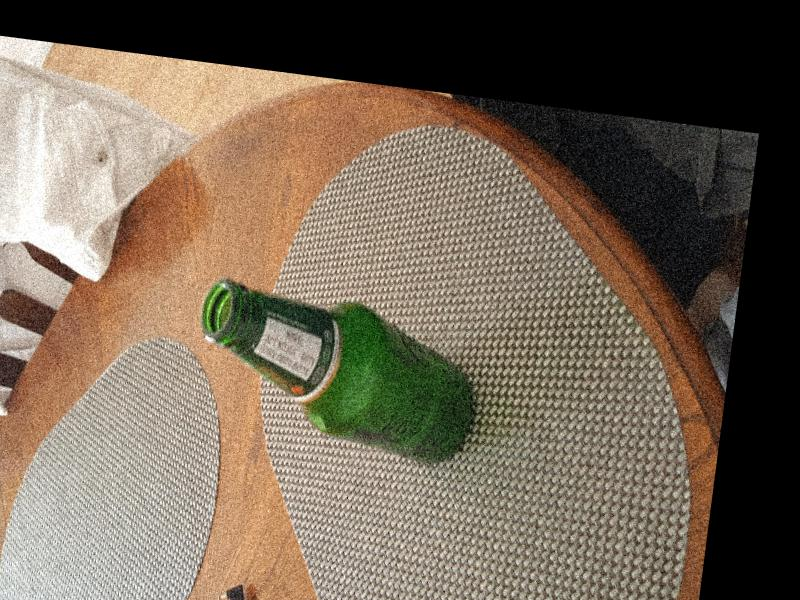Beer: (190, 288, 484, 470)
